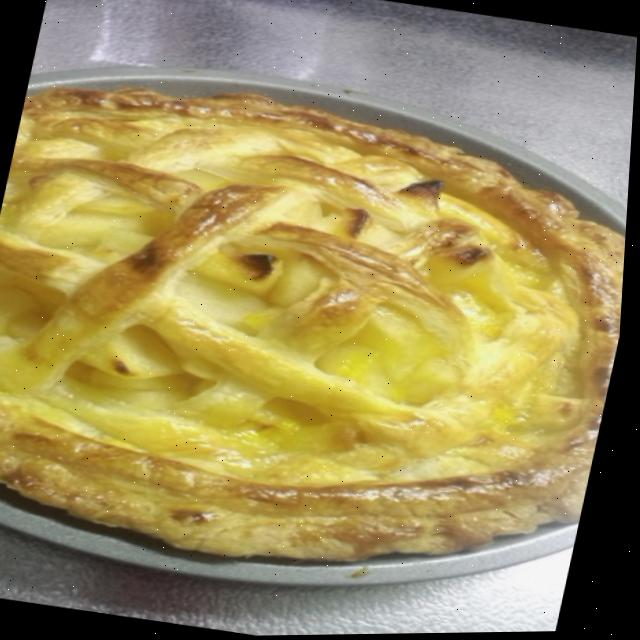炸货点心: (0, 20, 639, 636)
蛋糕甜品: (0, 20, 639, 636)
